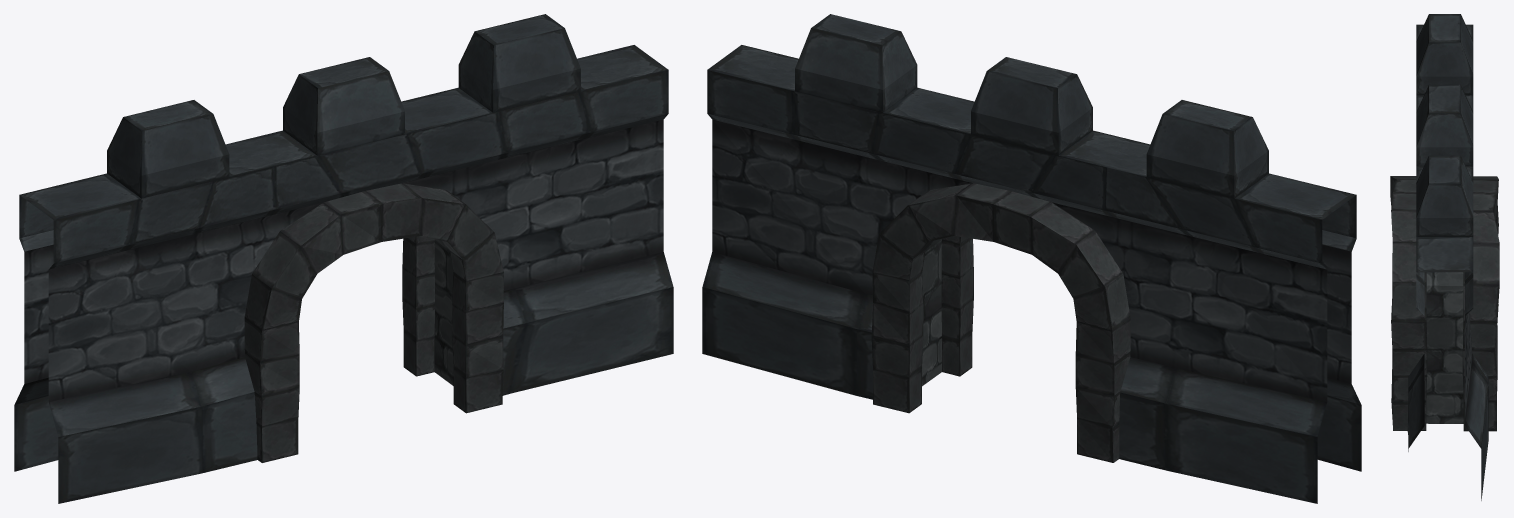
The model's file is cp_gatewall2.FBX.
The picture shows the model from 3 angles, left to right: view 1: azimuth 30°, elevation 25°; view 2: azimuth 150°, elevation 25°; view 3: azimuth 270°, elevation 25°; orthographic projection. The views are drawn at different scales.
Visible parts, largest first — view 1: gatewall2; view 2: gatewall2; view 3: gatewall2.
Part boxes in pixels (<box>): gatewall2: <box>14,14,673,503</box>; gatewall2: <box>702,14,1361,503</box>; gatewall2: <box>1390,14,1499,500</box>.
Bounding box in the file's own units: 73.15 × 38.66 × 13.68.
